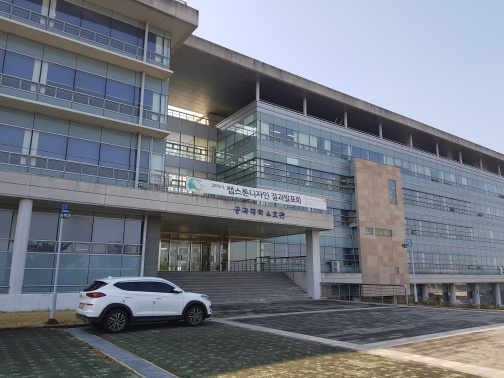Engineering College Building 4: (180, 61, 499, 295), (353, 155, 487, 283), (217, 191, 304, 236)
